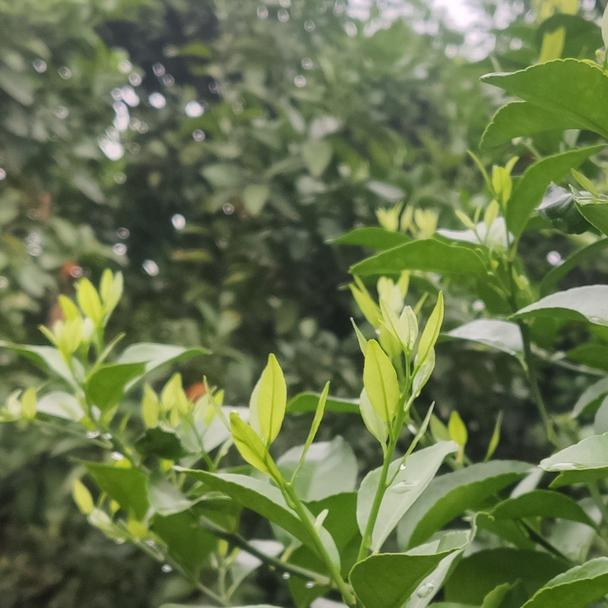shoot: (206, 370, 332, 563), (353, 310, 447, 497)
